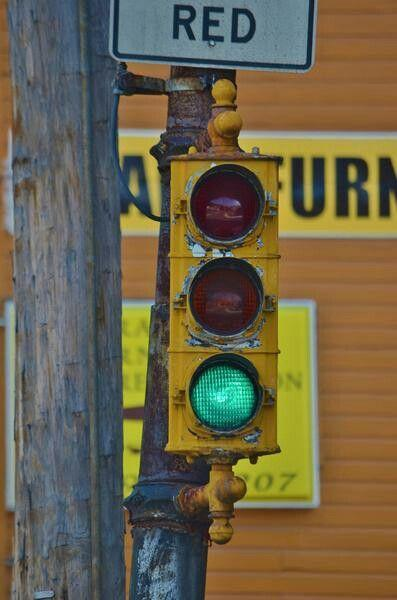green: (153, 151, 286, 456)
